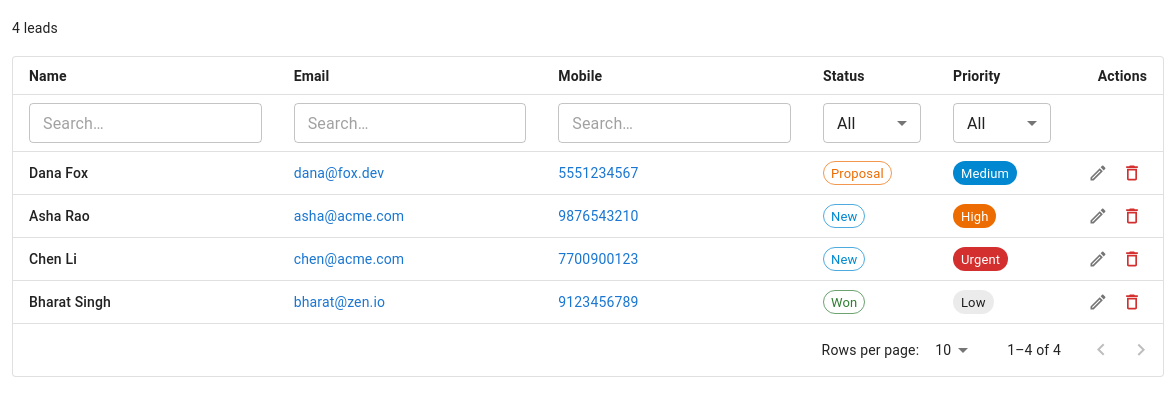
TableView (desktop table) › searches the name column
Type "chen" into the search field named "Filter by name".
click(145, 123); type("chen")  # box [29,103,262,143]
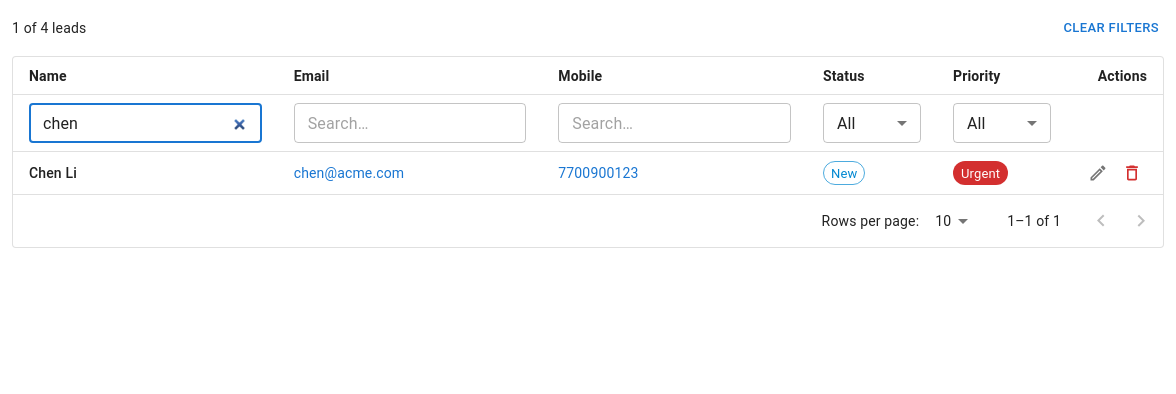
Now the text "1 of 4 leads" is shown, box [12,18,86,38]
